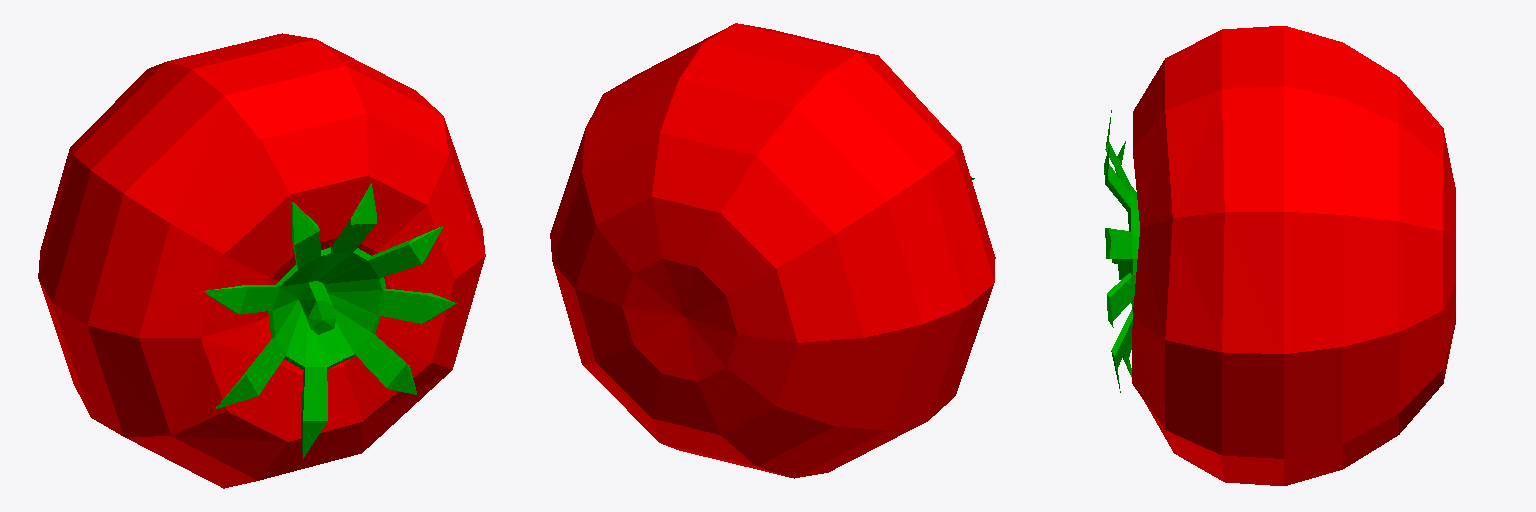
The model's file is tomato.obj.
3 renders of one model, left to right at view 1: azimuth 30°, elevation 25°; view 2: azimuth 150°, elevation 25°; view 3: azimuth 270°, elevation 25°, orthographic.
Bounding box in the file's own units: 100 × 95.11 × 75.82.